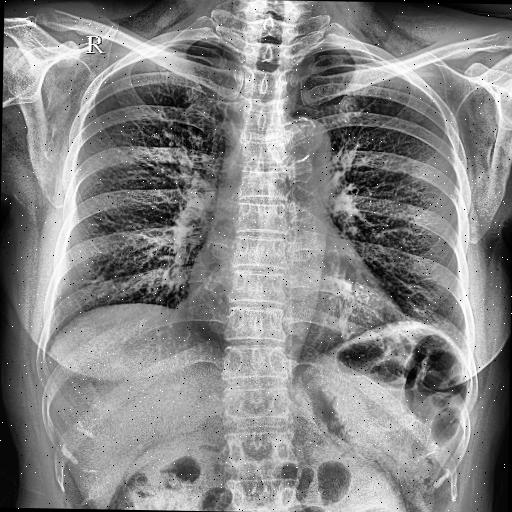0- Aortic enlargement: (282, 110, 344, 170)
2- Calcification: (284, 112, 330, 174), (272, 110, 324, 164)
